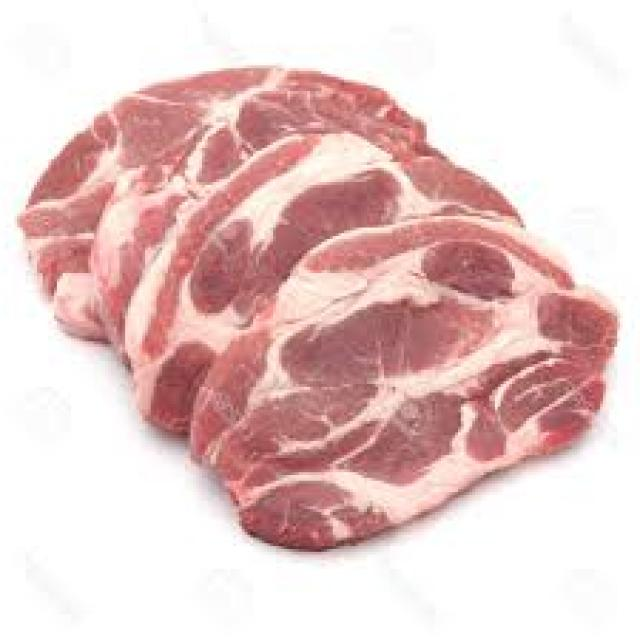Pork: (20, 68, 616, 549)
